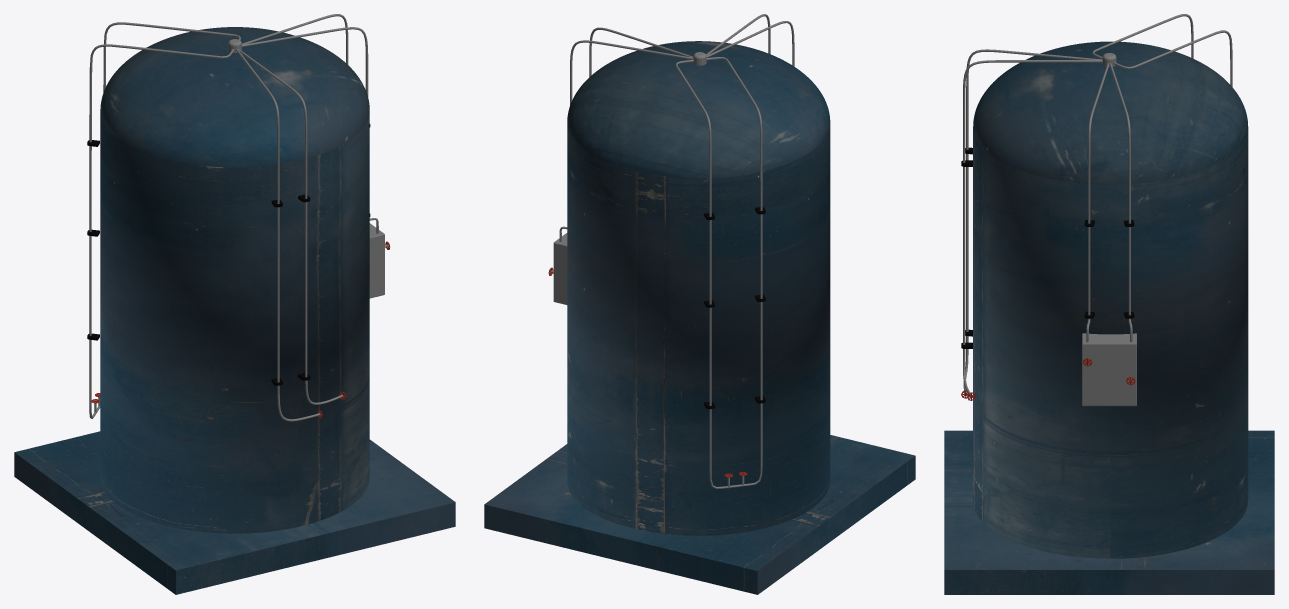
The model's file is Oxygentank.glb.
The picture shows the model from 3 angles, left to right: view 1: azimuth 30°, elevation 25°; view 2: azimuth 150°, elevation 25°; view 3: azimuth 270°, elevation 25°; orthographic projection. The views are drawn at different scales.
Visible parts, largest first — view 1: Oxygentank, Plane.008, Plane.009; view 2: Oxygentank, Plane.008, Plane.009; view 3: Oxygentank, Plane.008, Plane.002, Plane.001, Plane.009.
Boxes of the visible parts, x1,y1,x2,y2 form: Oxygentank: (14,14,455,594); Plane.008: (14,444,441,594); Plane.009: (89,22,240,417); Oxygentank: (489,14,915,594); Plane.008: (484,439,915,594); Plane.009: (676,57,762,488); Oxygentank: (944,14,1274,594); Plane.008: (944,431,1274,558); Plane.002: (965,49,1096,392); Plane.001: (963,60,1102,392); Plane.009: (1092,14,1232,86).
Bounding box in the file's own units: 1.21 × 1.89 × 1.2.
4 materials, 1 textured.
